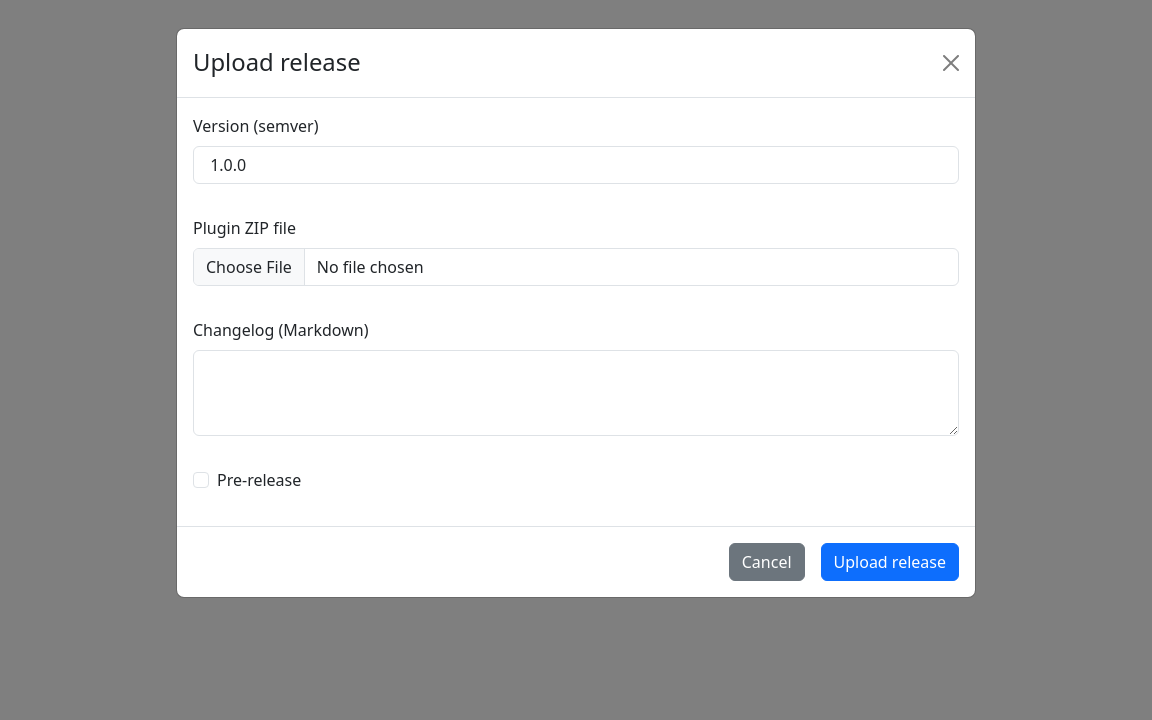
Release form uses the returned publication eligibility and retained operation › closes only after a confirmed eligible response (eligible=false)
Earlier steps of the test are not shown.
Type " changelog " into the text box named "Changelog (Markdown)".
click(576, 393); type(" changelog ")  # box [193,350,959,436]
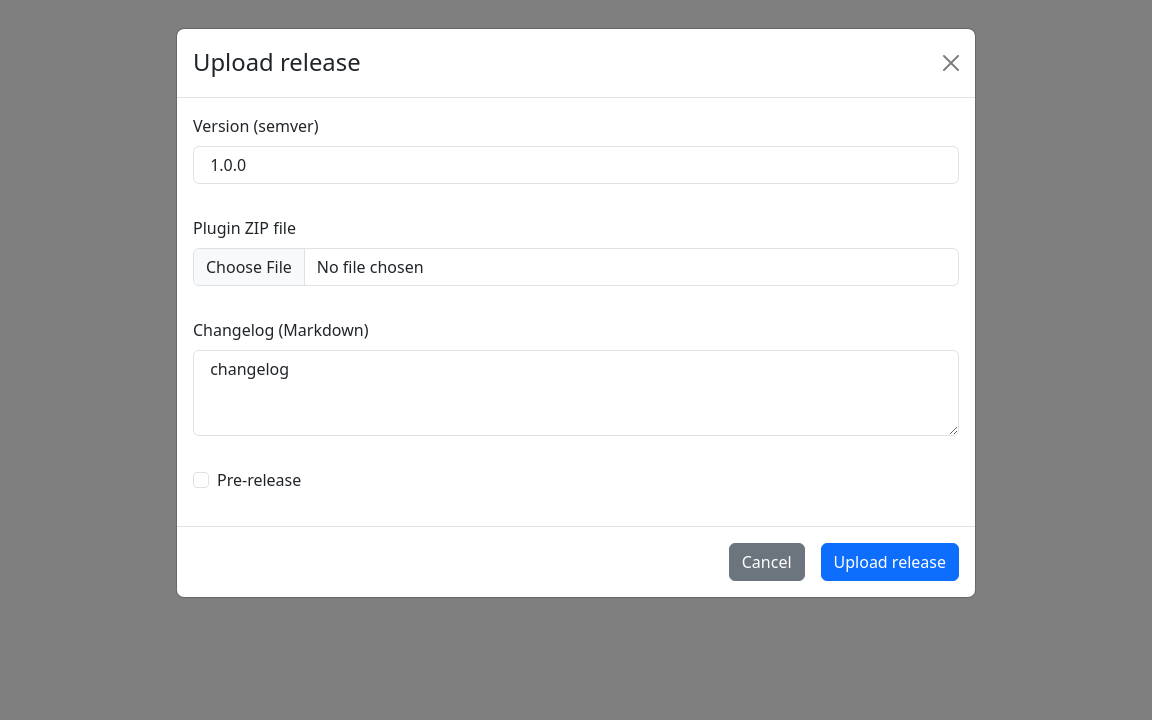
Click the checkbox labelled "Pre-release".
click(201, 480)  # box [193,472,209,488]
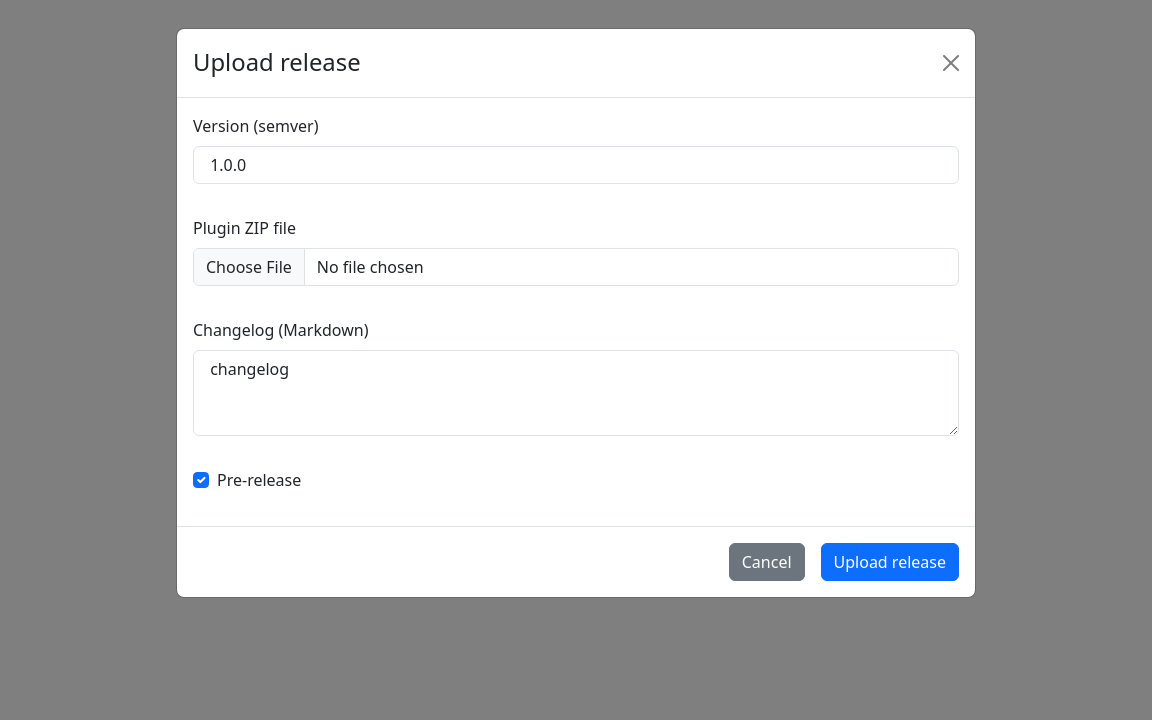
Click the button "Upload release".
click(890, 562)  # box [820,543,959,581]
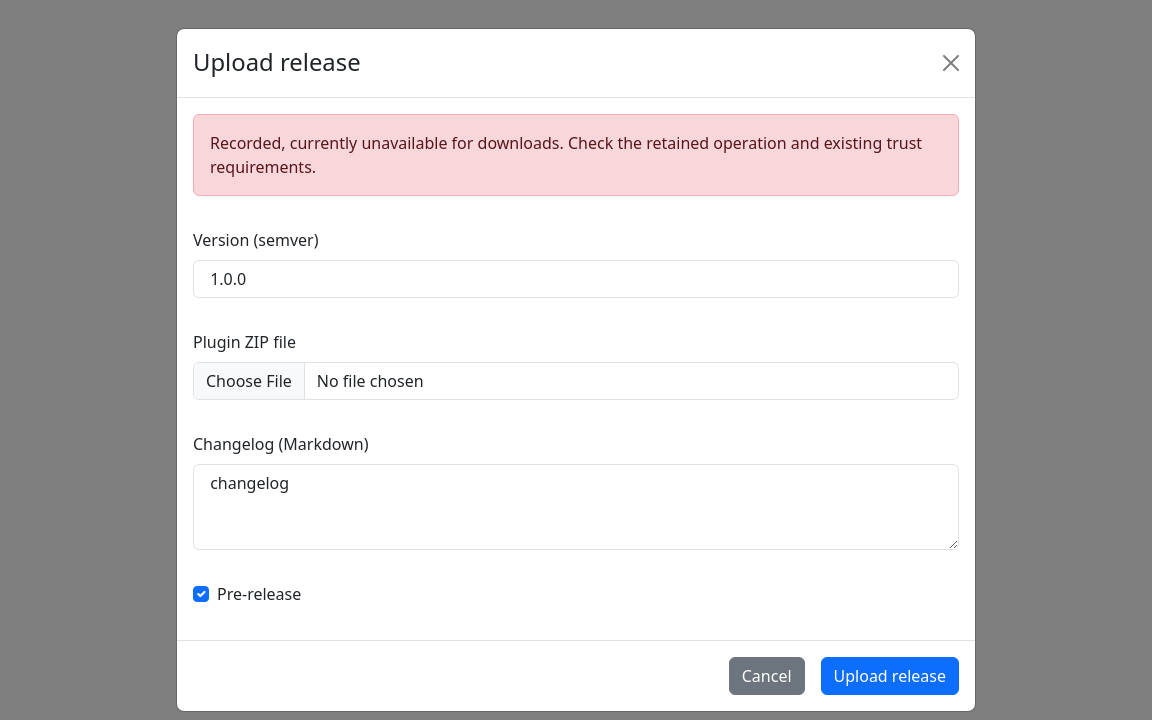
Result: the message shows "currently unavailable" at [210,132,922,178]
